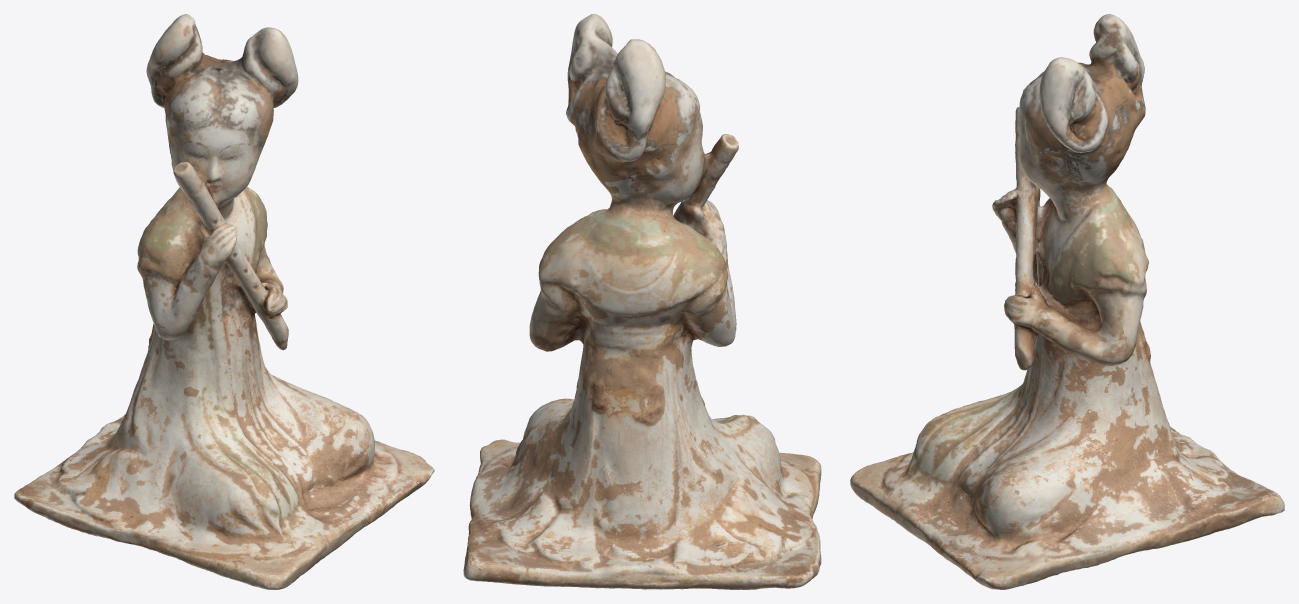
File: preview.glb
3 renders of one model, left to right at view 1: azimuth 30°, elevation 25°; view 2: azimuth 150°, elevation 25°; view 3: azimuth 270°, elevation 25°, orthographic. The views are drawn at different scales.
Visible parts, largest first — view 1: Object_2; view 2: Object_2; view 3: Object_2.
Boxes of the visible parts, x1,y1,x2,y2 form: Object_2: (14, 14, 434, 589); Object_2: (463, 14, 821, 589); Object_2: (850, 14, 1284, 589).
Size of the model in its own units: 0.1625 by 0.2091 by 0.1671.
1 material, 1 textured.
